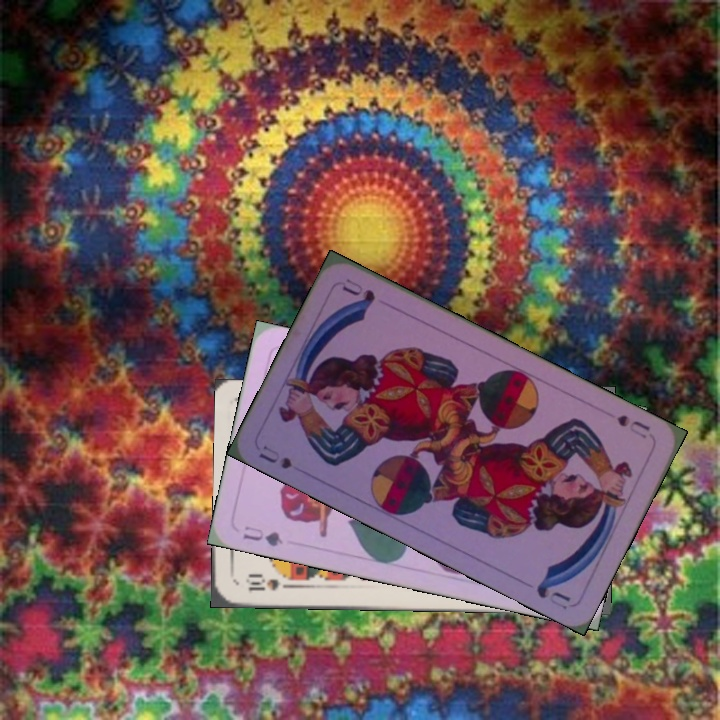GU: (239, 522, 285, 549)
S10: (242, 572, 295, 594)
SU: (254, 441, 295, 472), (612, 410, 653, 441)
